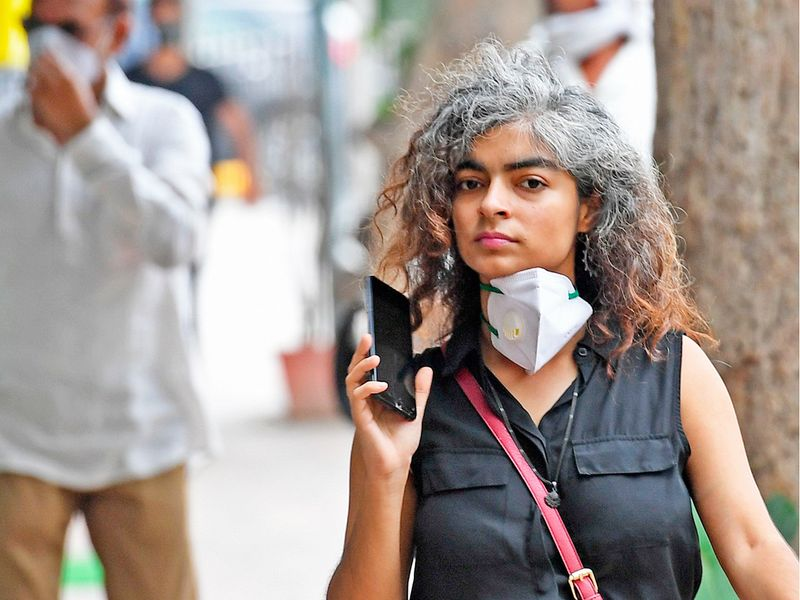with_incorrect_mask: (459, 142, 585, 325)
